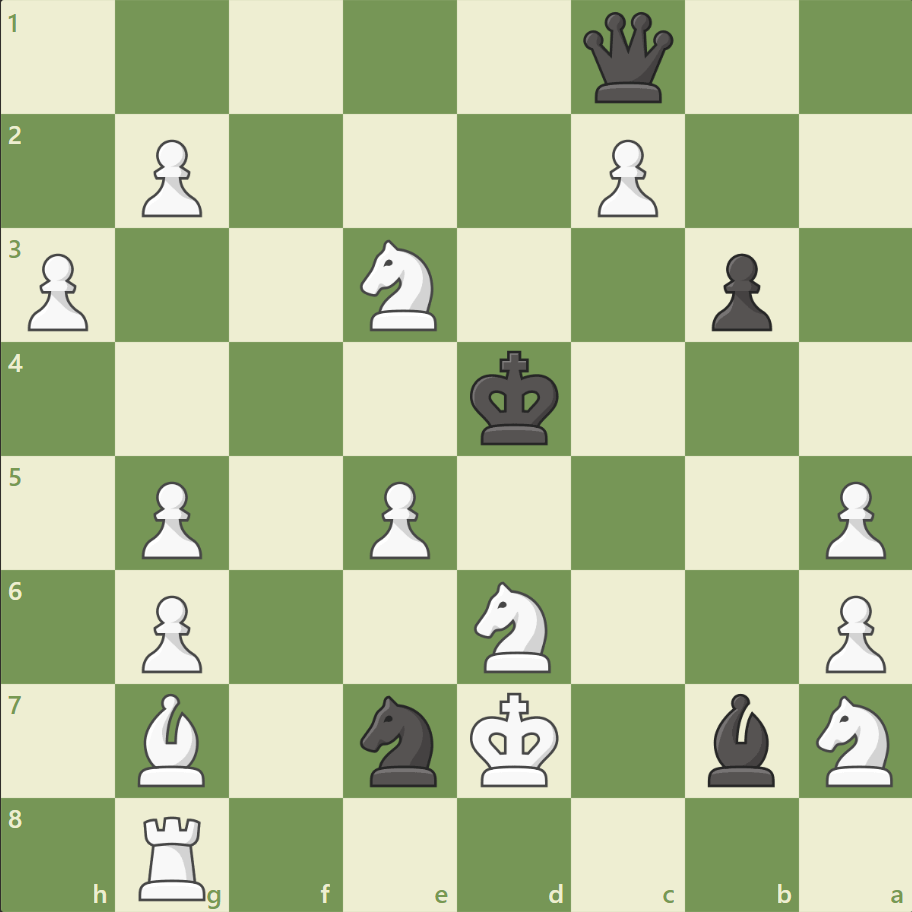B: (131, 687, 215, 790)
K: (465, 685, 565, 793)
N: (351, 234, 449, 337), (806, 688, 903, 791), (465, 575, 562, 677)
P: (133, 586, 208, 677), (133, 473, 208, 564), (20, 246, 95, 337), (133, 132, 208, 223), (815, 586, 889, 677), (815, 473, 889, 564), (361, 473, 435, 564), (588, 132, 662, 223)
R: (133, 806, 215, 904)
b: (698, 687, 782, 790)
k: (465, 344, 565, 452)
n: (351, 688, 449, 791)
p: (701, 246, 776, 337)
q: (578, 9, 677, 108)
